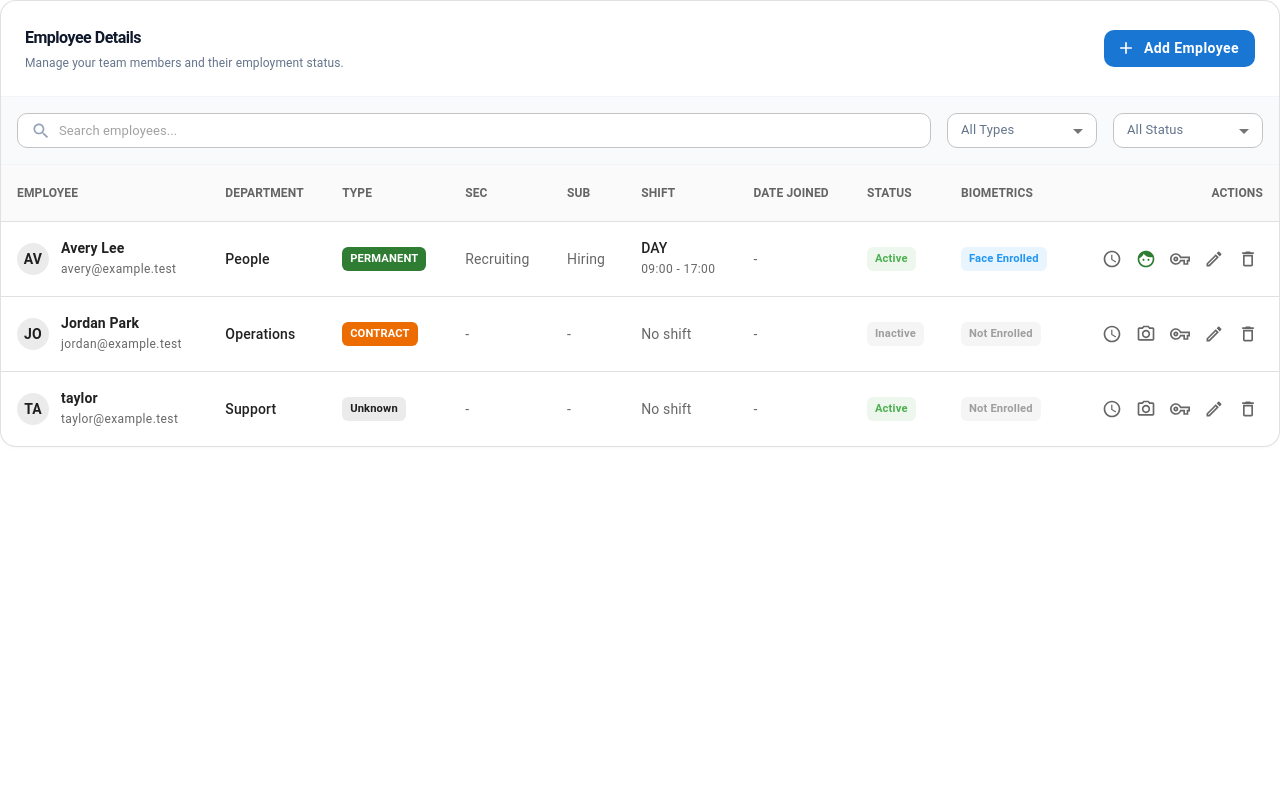
Scenario: keeps the selected employee when deletion is rejected
Click the button named "Delete Employee" in the row of "Avery Lee": (1248, 259) 1233,244 -> 1263,274
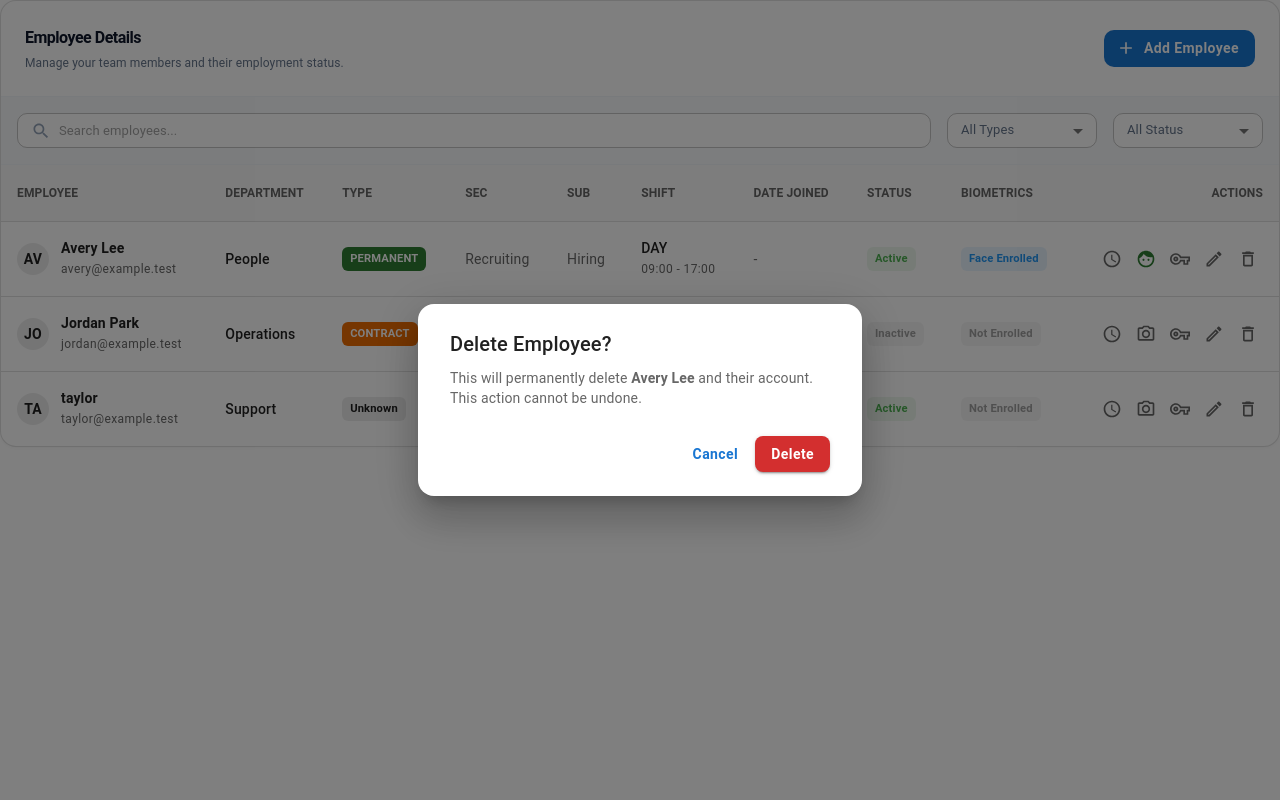
Click the button "Delete": (793, 454) 755,436 -> 830,472
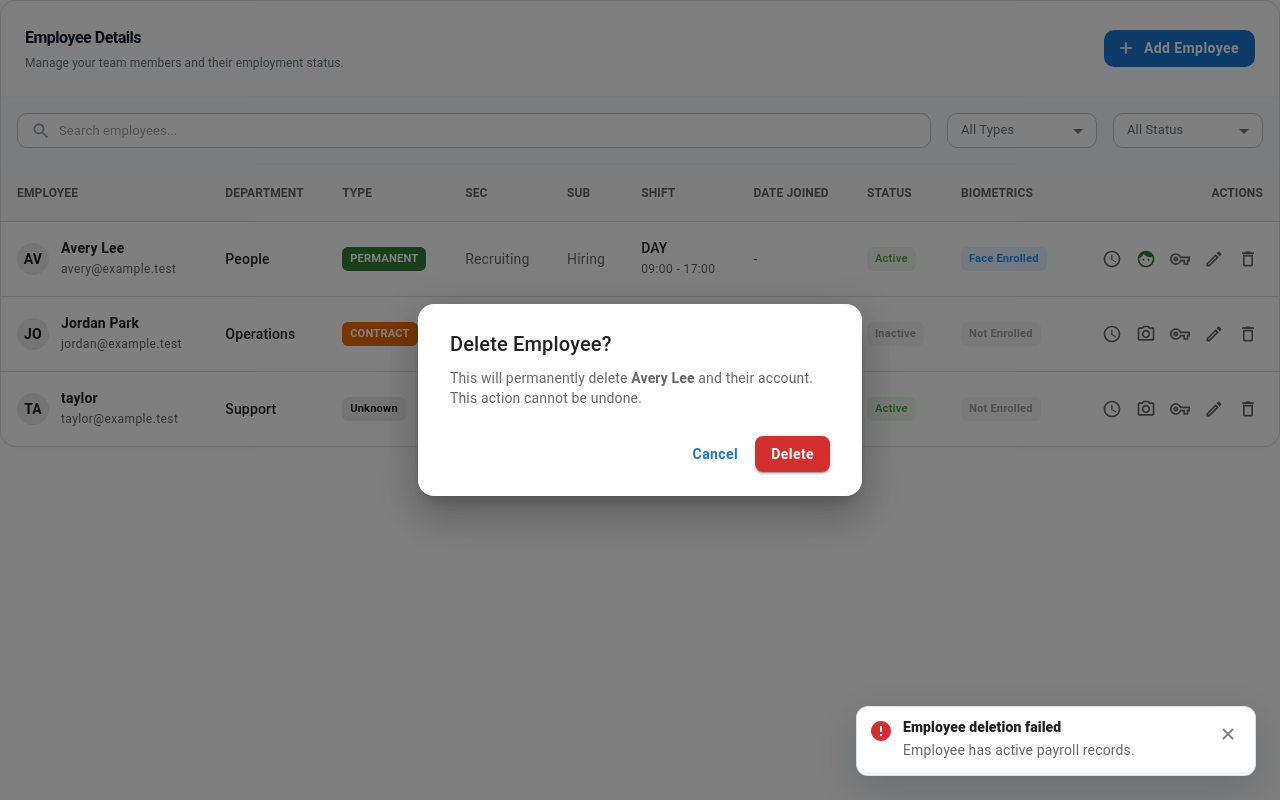
Expected: the text "Avery Lee" next to "People" is shown, 61,240 -> 124,256
Expected: the heading "Delete Employee?" is shown, 450,332 -> 612,356
Expected: the text "Employee has active payroll records." is shown, 903,742 -> 1135,758
